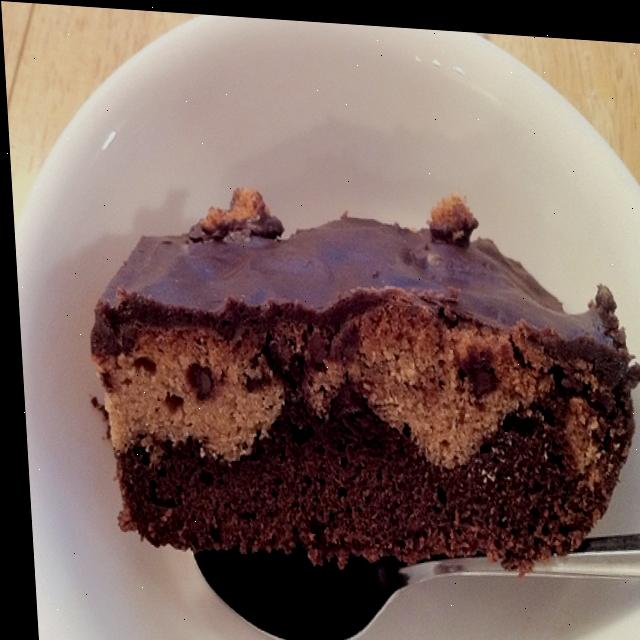蛋糕甜品: (43, 98, 640, 630)
